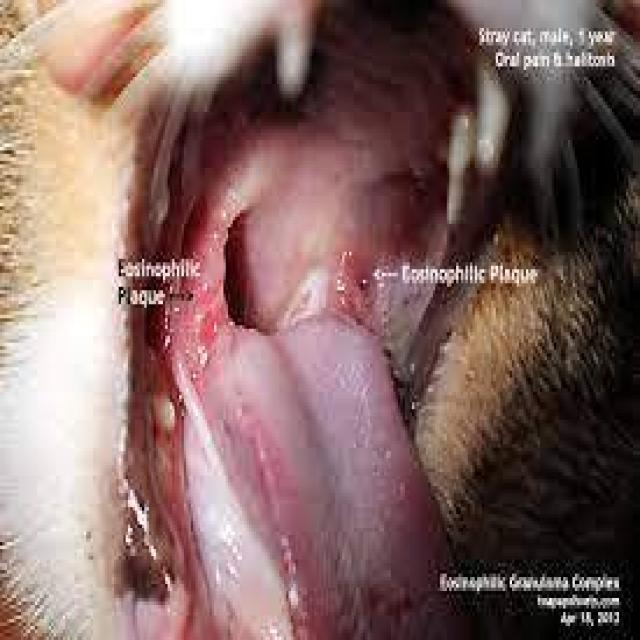cat-ulcer: (181, 306, 232, 390), (340, 257, 384, 329)
